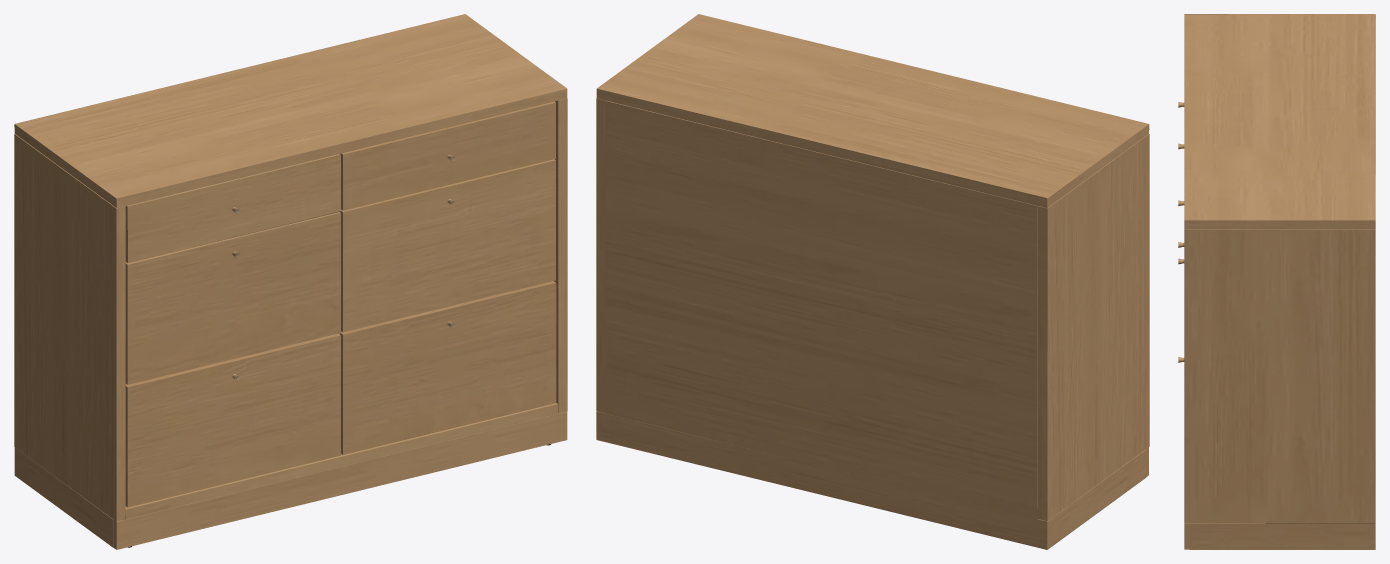
Rendered from 15 - TONSTAD - 抽屜櫃6抽, 實木貼皮, 橡木, 120x47x90 公分 IKEA 線上購物.glb.
The picture shows the model from 3 angles, left to right: view 1: azimuth 30°, elevation 25°; view 2: azimuth 150°, elevation 25°; view 3: azimuth 270°, elevation 25°; orthographic projection. The views are drawn at different scales.
Visible parts, largest first — view 1: 50614624_chest_of_6_drawers.001; view 2: 50614624_chest_of_6_drawers.001; view 3: 50614624_chest_of_6_drawers.001.
Boxes of the visible parts, left/top/right/bottom form: 50614624_chest_of_6_drawers.001: left=14, top=14, right=567, bottom=549; 50614624_chest_of_6_drawers.001: left=596, top=14, right=1149, bottom=549; 50614624_chest_of_6_drawers.001: left=1178, top=14, right=1375, bottom=549.
Size of the model in its own units: 1.2 by 0.9003 by 0.4854.
1 material, 1 textured.
